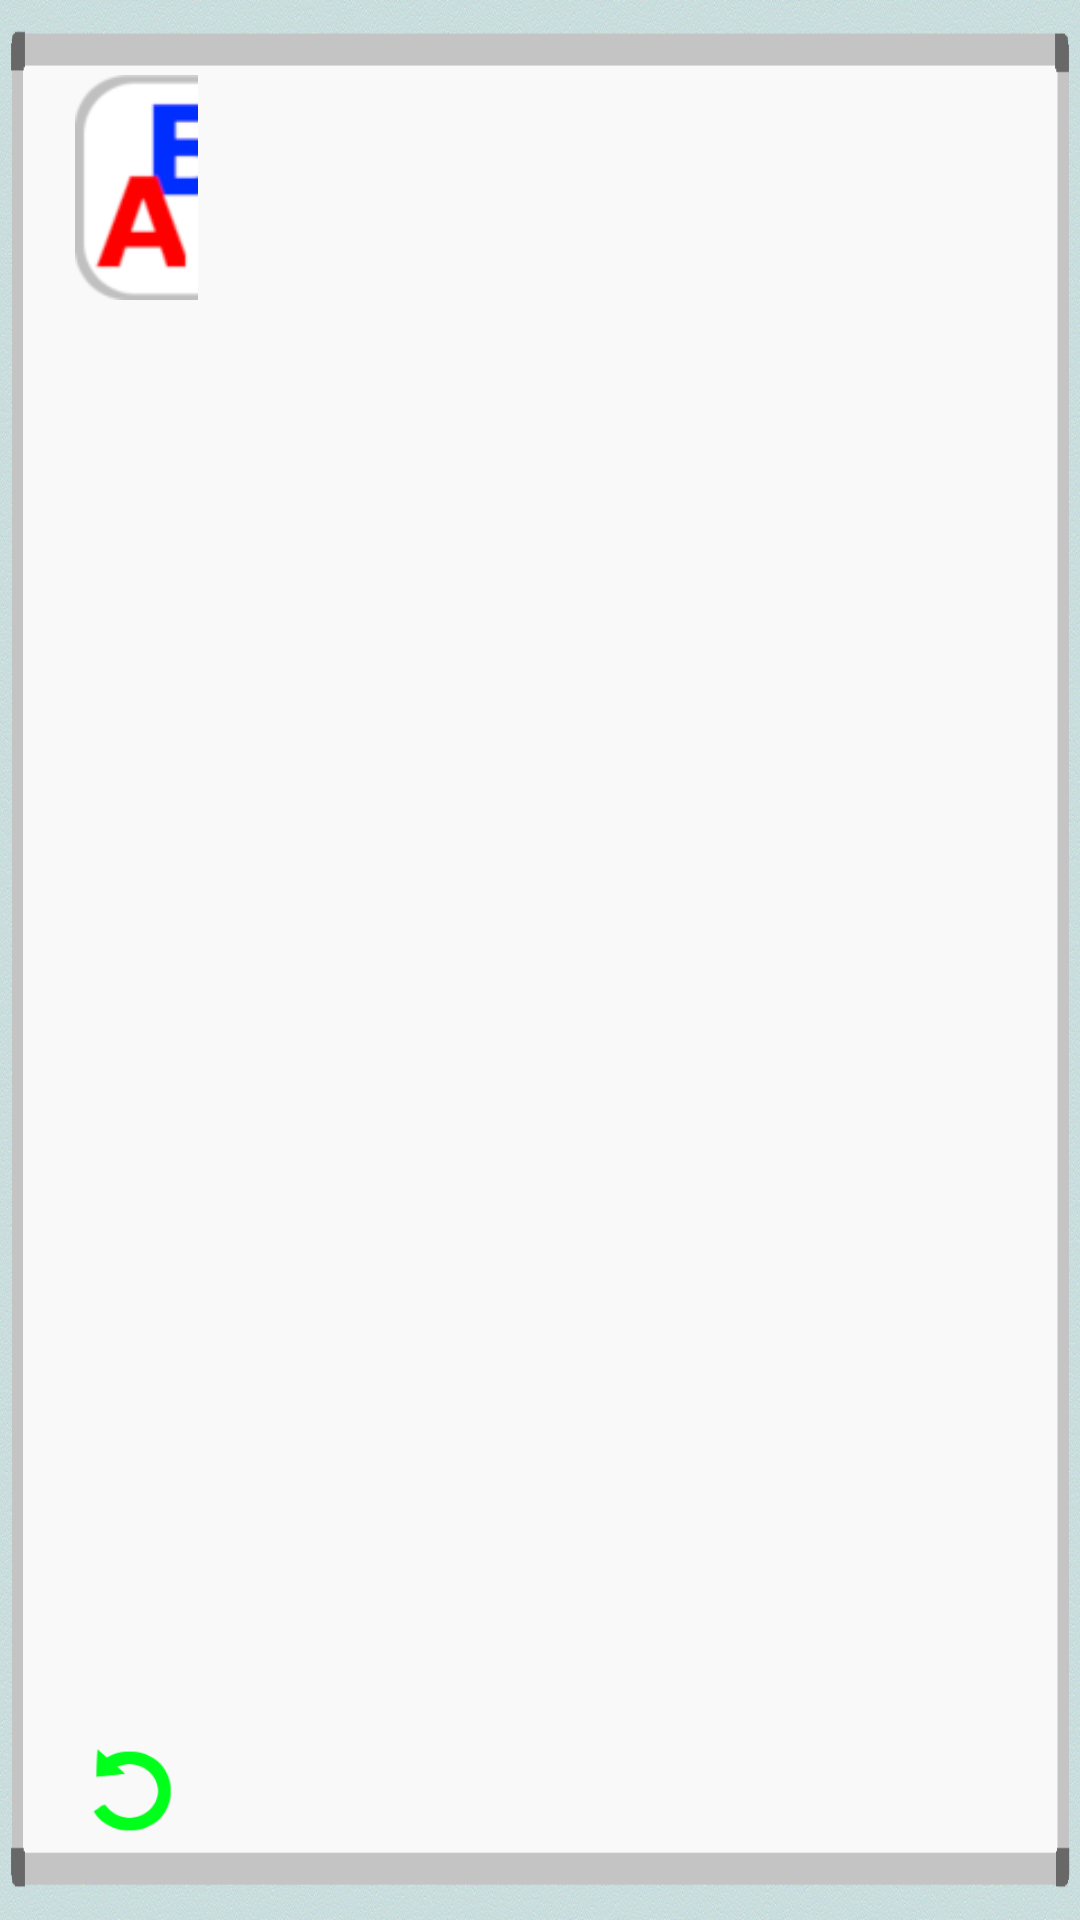

Screen size 1080 × 1920. Icon name, then its box in pixels as (x1, y1, x2, y2):
reboot: (94, 1749, 171, 1831)
